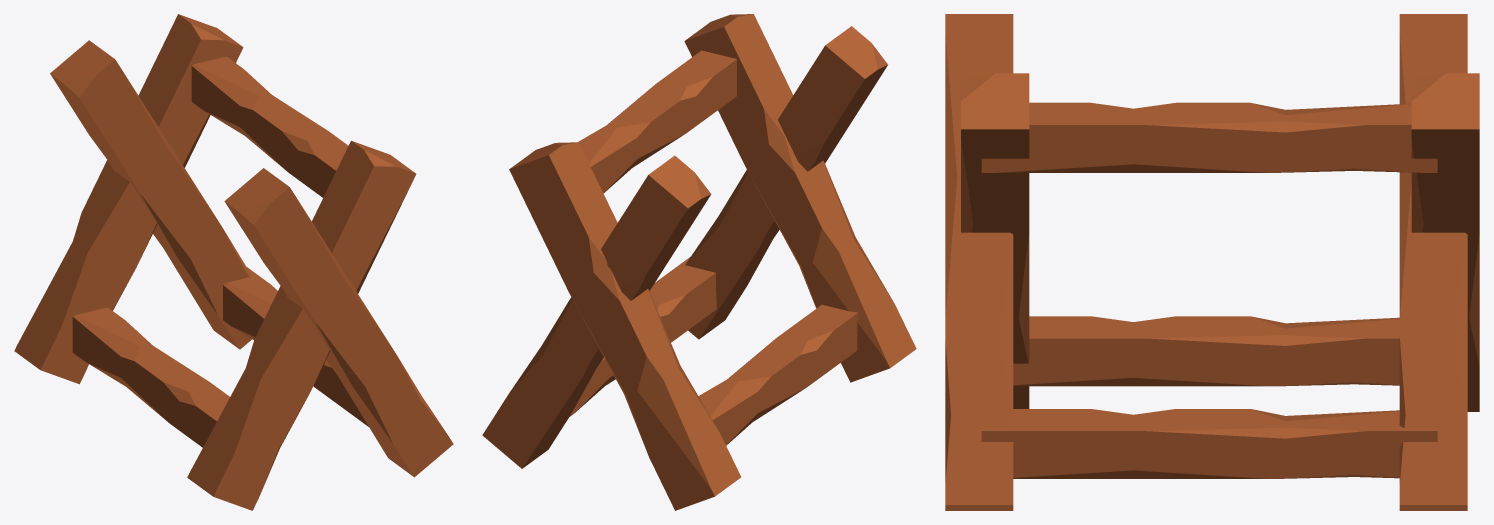
Rendered from shelf.fbx.
3 views of the same model, side by side, from view 1: azimuth 30°, elevation 25°; view 2: azimuth 150°, elevation 25°; view 3: azimuth 270°, elevation 25° (orthographic). The views are drawn at different scales.
Visible parts, largest first — view 1: 立方体.056; view 2: 立方体.056; view 3: 立方体.056.
Boxes of the visible parts, left/top/right/bottom form: 立方体.056: left=14, top=14, right=453, bottom=510; 立方体.056: left=482, top=14, right=916, bottom=510; 立方体.056: left=945, top=14, right=1479, bottom=510.
Size of the model in its own units: 439 by 289 by 378.
